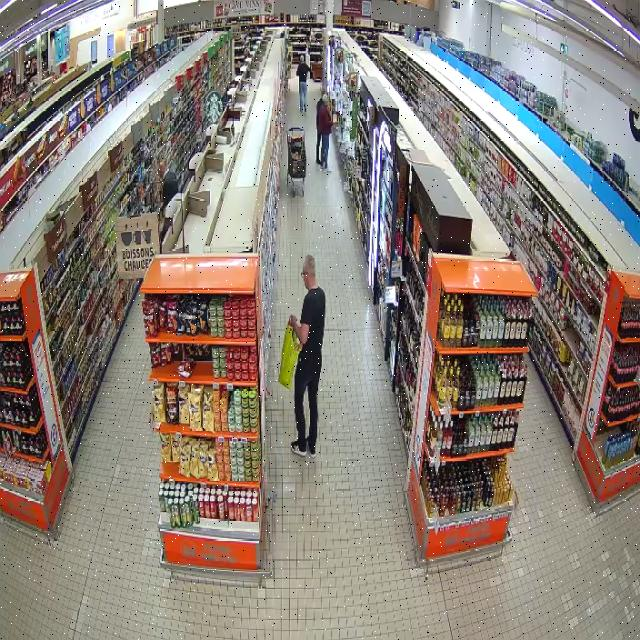person: (288, 254, 325, 456)
